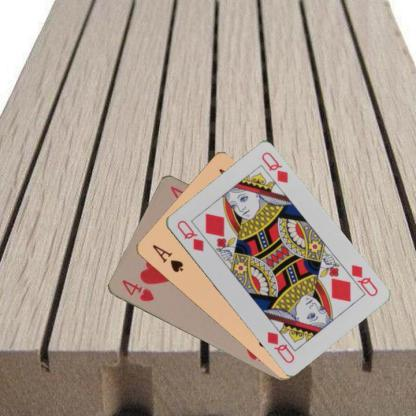4h: (119, 277, 155, 303)
As: (149, 241, 184, 274)
Qd: (340, 261, 379, 298), (174, 218, 205, 252)
